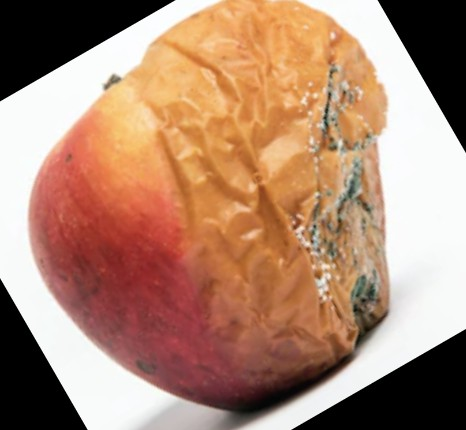rotten_apple: (30, 1, 392, 410)
